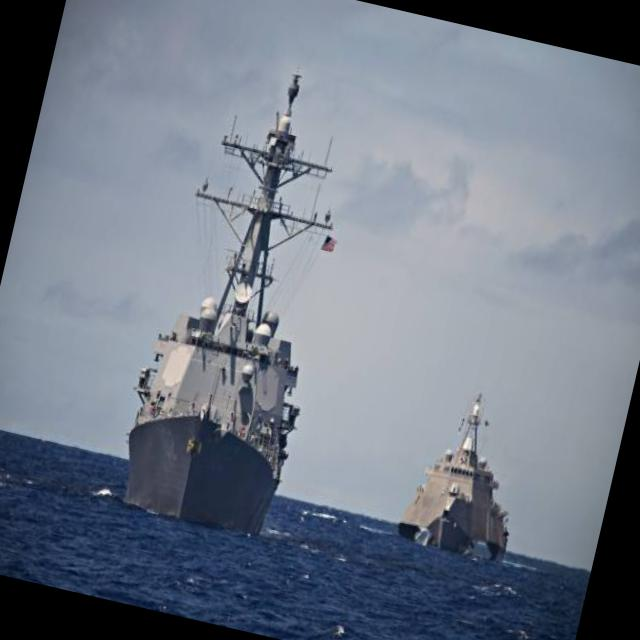Military: (124, 74, 337, 537), (400, 398, 508, 562)
